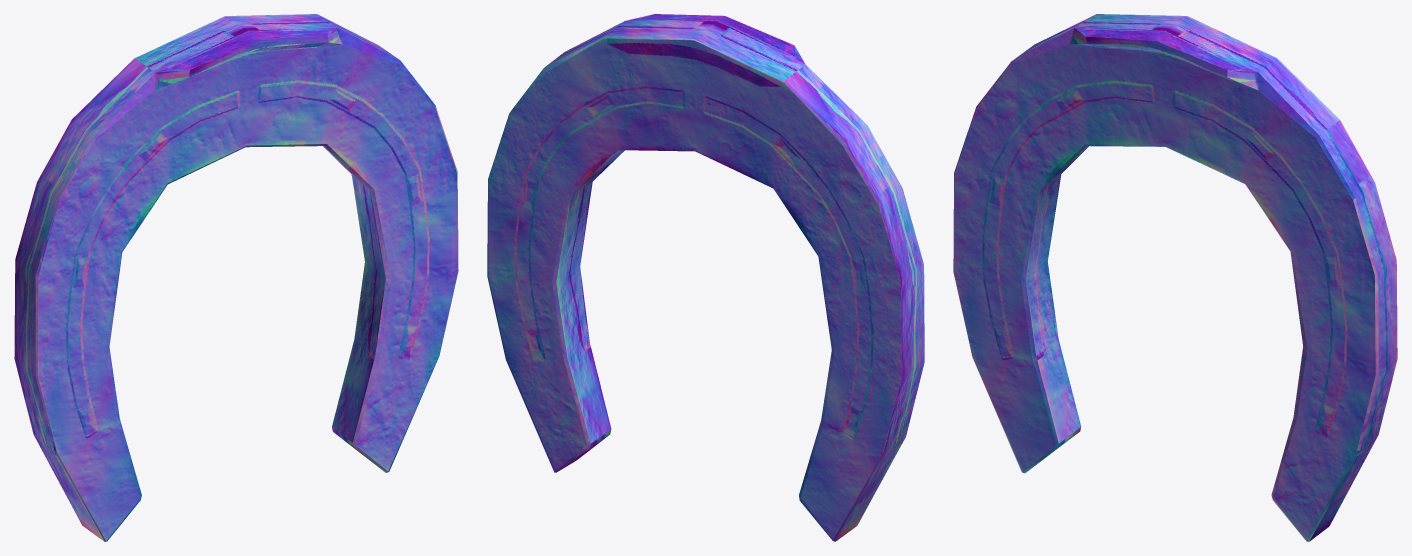
Rendered from horseshoe.fbx.
3 views of the same model, side by side, from view 1: azimuth 30°, elevation 25°; view 2: azimuth 150°, elevation 25°; view 3: azimuth 330°, elevation 25° (orthographic).
Visible parts, largest first — view 1: Cube.033_Cube.022; view 2: Cube.033_Cube.022; view 3: Cube.033_Cube.022.
Part boxes in pixels (x1,y1,x2,y2): Cube.033_Cube.022: [14, 14, 458, 541]; Cube.033_Cube.022: [487, 14, 924, 541]; Cube.033_Cube.022: [953, 14, 1397, 541].
Bounding box in the file's own units: 35.33 × 38.07 × 4.9.
